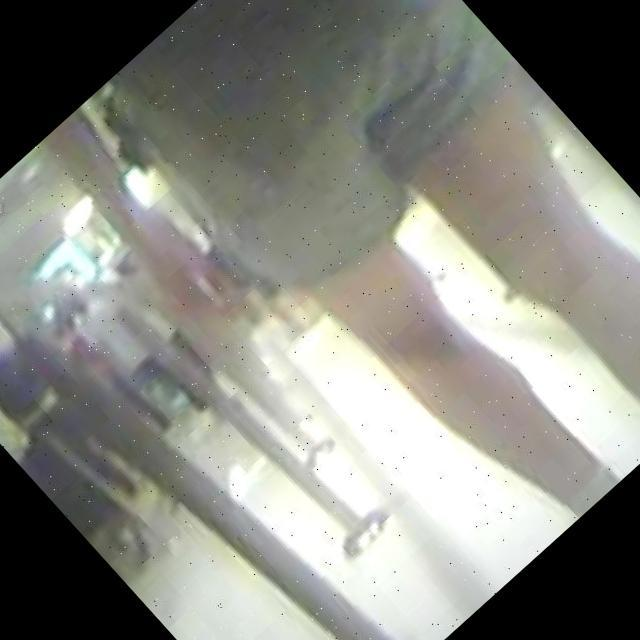person: (26, 0, 640, 629), (0, 297, 131, 533), (0, 349, 130, 572)
